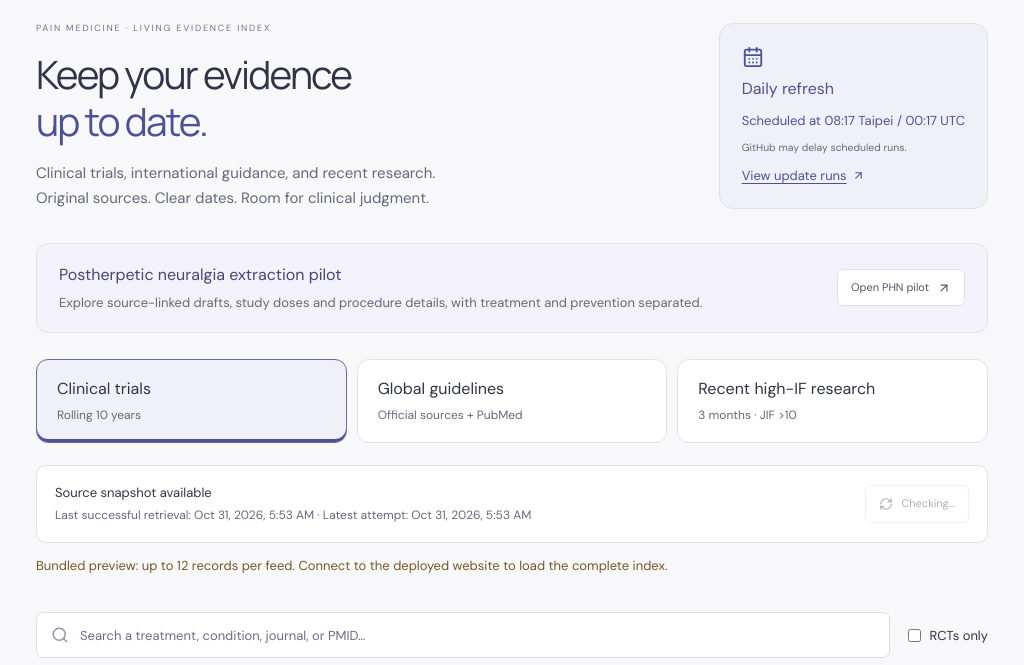
Test: PHN extraction pilot workflow › separates PHN treatment from prevention and exposes sourced fields and unresolved gaps
Click the button "Open PHN pilot". click: (901, 288)
box: [837,269,965,306]
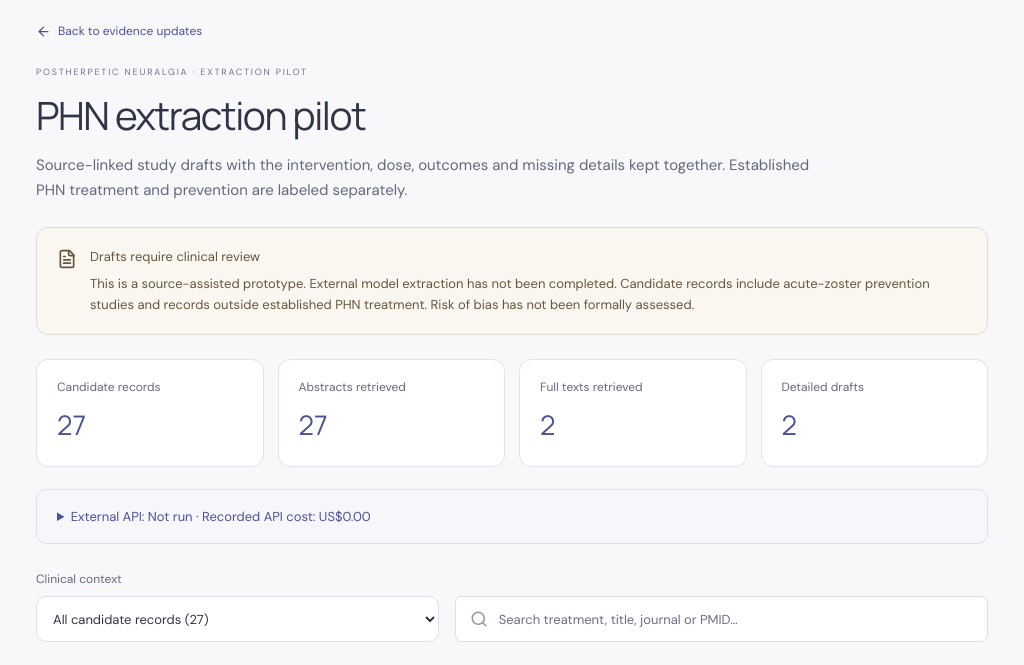
Select "Established PHN treatment (1)" in the dropdown named "PHN clinical context". click: (237, 619)
box: [36,596,439,642]
(page scrolled)
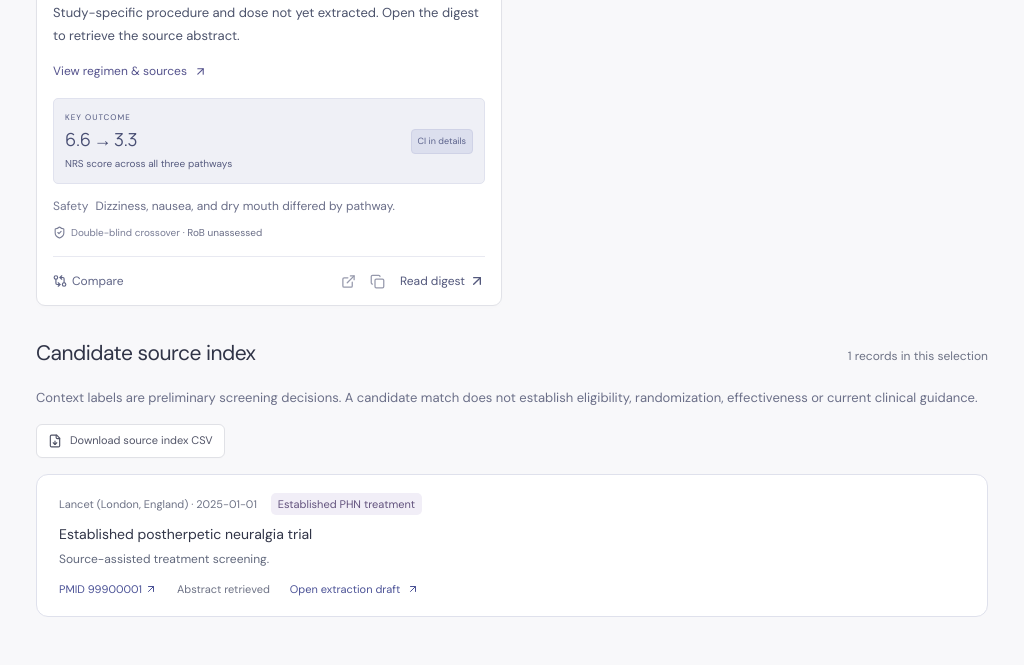
Click the button "Read digest". click: (442, 281)
box: [400,266,485,296]
(page scrolled)
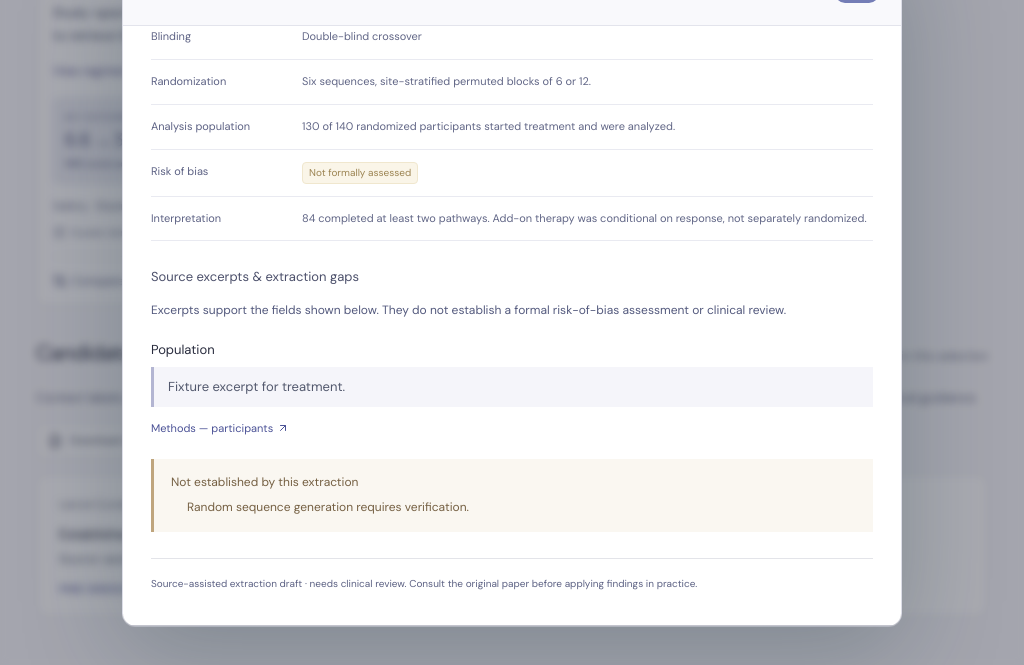
expect the text "Fixture excerpt for treatment." is shown: met, box [151,368,873,407]
expect the link "Methods — participants" is shown: met, box [151,420,289,436]
expect the list item "Random sequence generation requires verification." is shown: met, box [187,500,469,516]
